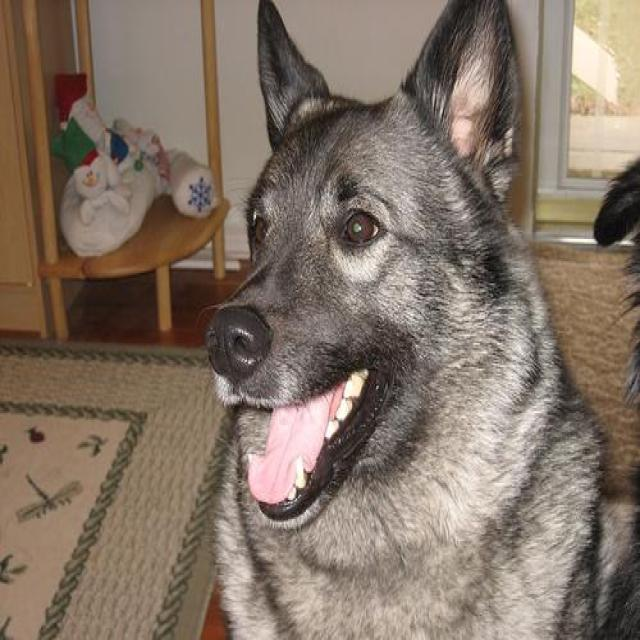happy: (180, 0, 586, 628)
